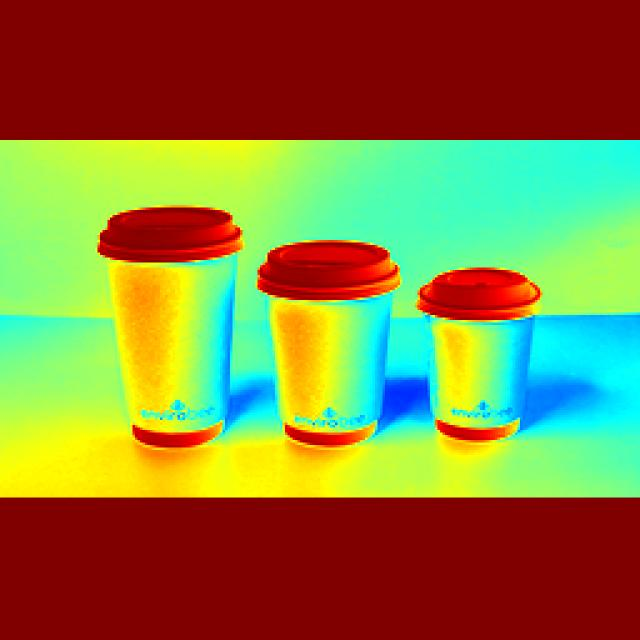Paper Cups: (102, 184, 253, 481), (256, 239, 414, 484), (403, 264, 537, 478)
